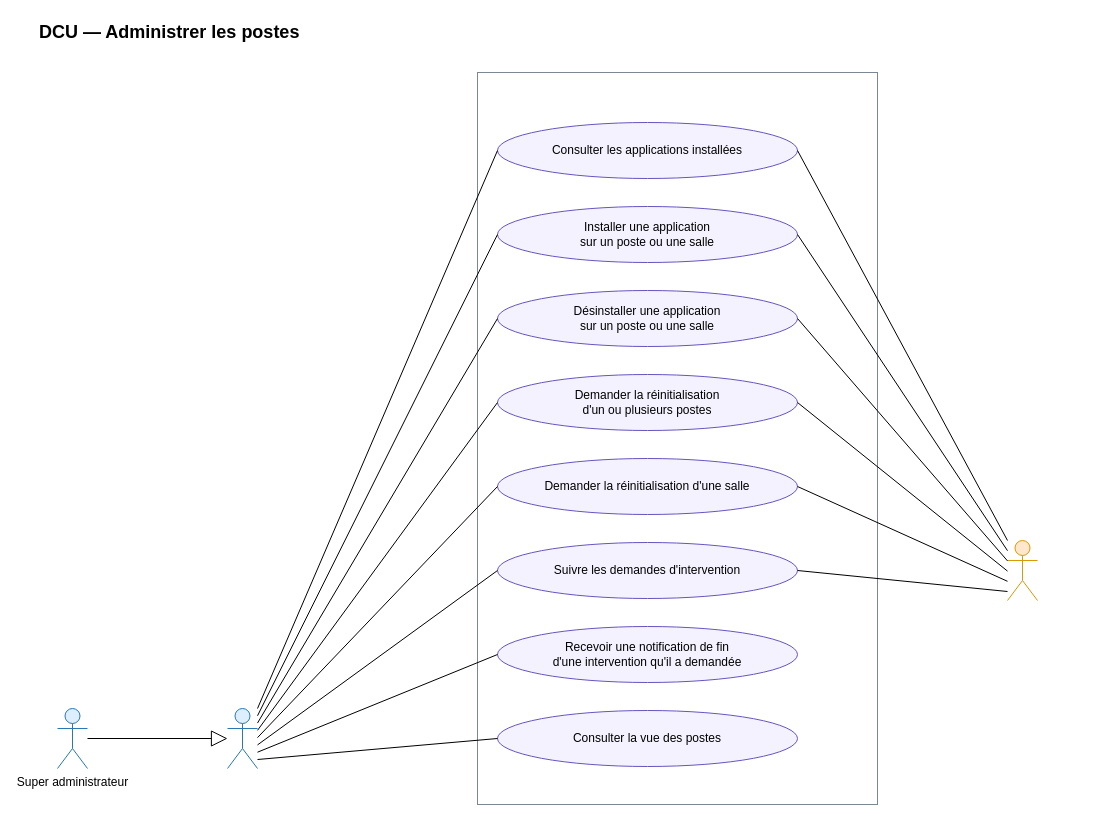
Some shapes in this 1118 by 822 pixel diagram are drawn without their labels. The box of each missing label's shape, as (x1, y1, x2, y2) in pixels:
Administrateur: (226, 708, 258, 768)
Application web ORION — Administration des postes: (476, 72, 878, 804)
« système » Solution d’administration et de déploiement des postes: (1006, 540, 1038, 600)
